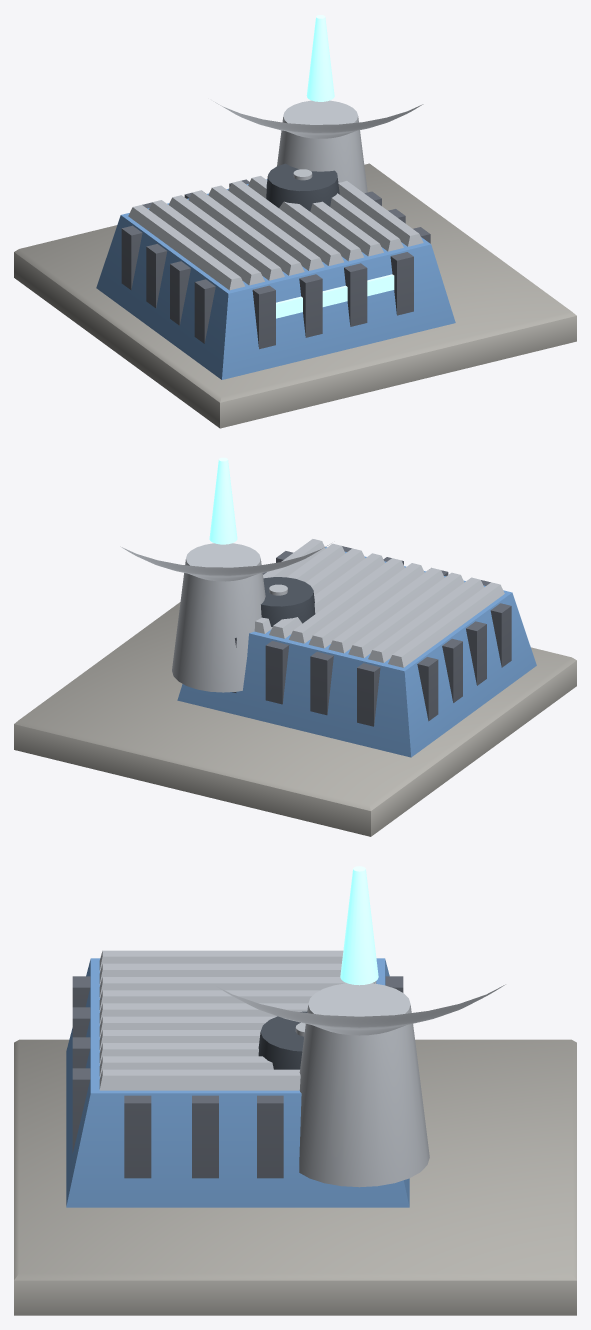
Rendered from gaspysat.glb.
3 renders of one model, top to bottom at view 1: azimuth 30°, elevation 25°; view 2: azimuth 150°, elevation 25°; view 3: azimuth 270°, elevation 25°, orthographic. The views are drawn at different scales.
Parts seen in each view (by area): view 1: Hull, Rotor; view 2: Hull, Rotor; view 3: Hull, Rotor.
Part boxes in pixels (bbox=[...]): Hull: bbox=[14, 100, 576, 428]; Rotor: bbox=[213, 15, 423, 132]; Hull: bbox=[14, 539, 576, 836]; Rotor: bbox=[120, 457, 331, 575]; Hull: bbox=[14, 950, 576, 1315]; Rotor: bbox=[213, 866, 505, 1027].
Bounding box in the file's own units: 3.17 × 2.24 × 3.17.
